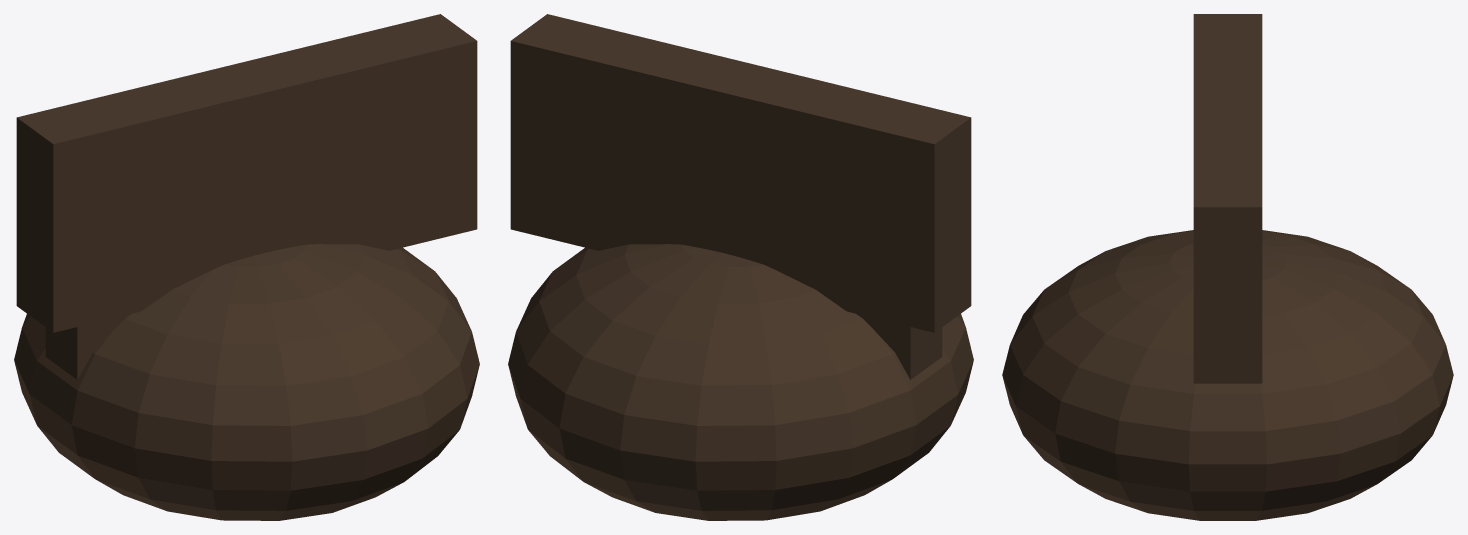
Rendered from SM_Hair_Mohawk.fbx.
The picture shows the model from 3 angles, left to right: view 1: azimuth 30°, elevation 25°; view 2: azimuth 150°, elevation 25°; view 3: azimuth 270°, elevation 25°; orthographic projection. The views are drawn at different scales.
Parts seen in each view (by area): view 1: SM_Hair_Mohawk; view 2: SM_Hair_Mohawk; view 3: SM_Hair_Mohawk.
Part boxes in pixels (x1,y1,x2,y2): SM_Hair_Mohawk: [14, 14, 479, 520]; SM_Hair_Mohawk: [508, 14, 973, 520]; SM_Hair_Mohawk: [1002, 14, 1453, 520].
Bounding box in the file's own units: 20 × 19.74 × 18.39.
